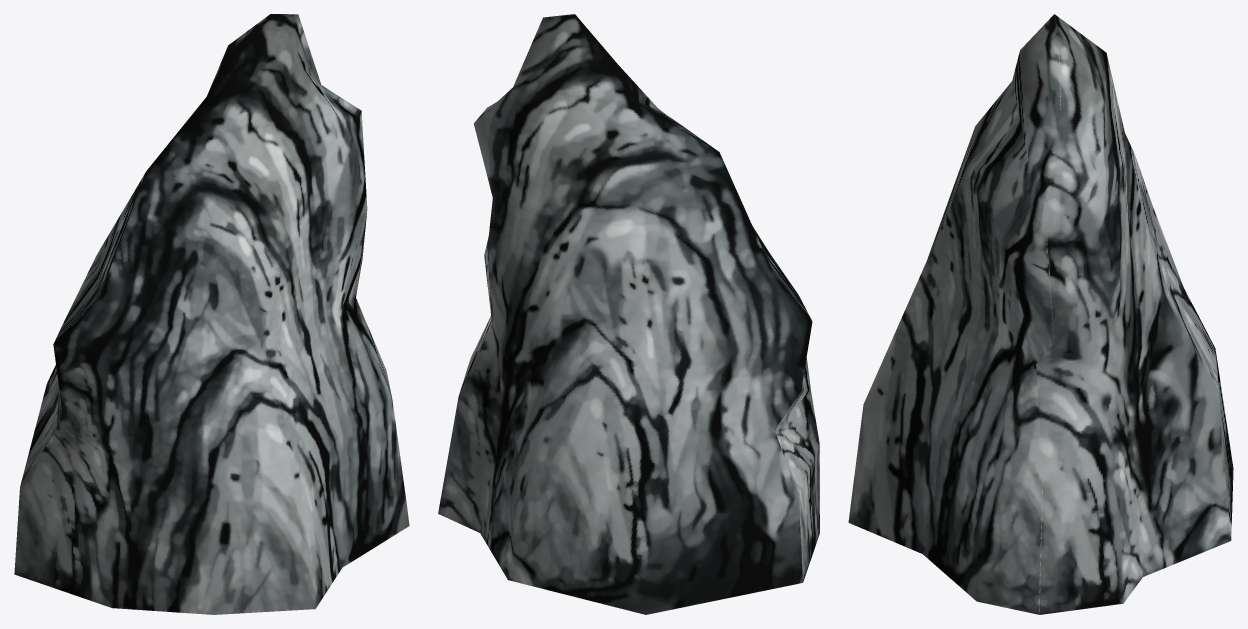
File: PRP_BouldersB.fbx
3 renders of one model, left to right at view 1: azimuth 30°, elevation 25°; view 2: azimuth 150°, elevation 25°; view 3: azimuth 270°, elevation 25°, orthographic. The views are drawn at different scales.
Parts seen in each view (by area): view 1: PRP_BouldersB; view 2: PRP_BouldersB; view 3: PRP_BouldersB.
Part boxes in pixels (x1,y1,x2,y2): PRP_BouldersB: (14, 14, 409, 614); PRP_BouldersB: (438, 14, 819, 614); PRP_BouldersB: (848, 14, 1233, 614).
Size of the model in its own units: 538 by 706 by 459.
Materials: 1 (1 with a texture image).
